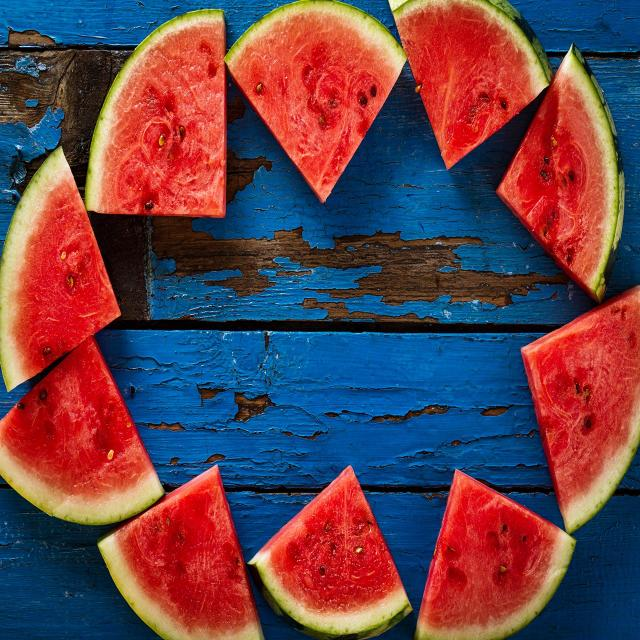watermelon: (222, 0, 412, 212), (0, 332, 165, 536), (76, 0, 228, 217), (92, 453, 268, 640), (499, 38, 623, 297), (248, 448, 413, 640), (385, 0, 552, 187), (0, 143, 121, 401), (520, 284, 640, 534), (413, 468, 574, 640)
